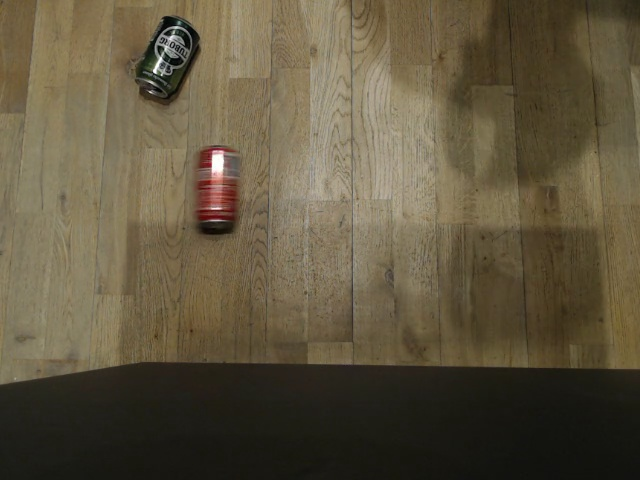beer: (130, 15, 204, 102)
cola: (192, 144, 245, 232)
